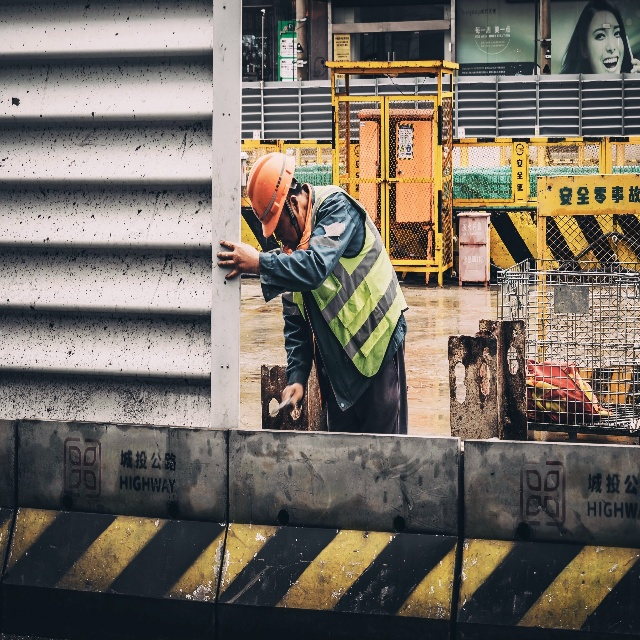Sin_guantes: (216, 239, 256, 281), (281, 382, 303, 413)
